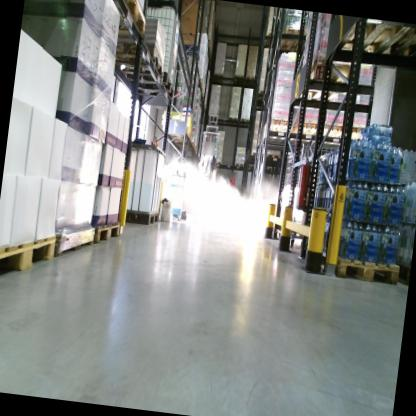pallet: (333, 18, 416, 68), (298, 247, 400, 287), (281, 54, 352, 110), (0, 226, 61, 289), (93, 0, 153, 37), (53, 218, 98, 264), (111, 41, 165, 79), (119, 67, 178, 99), (276, 24, 309, 55), (120, 205, 161, 229), (393, 24, 416, 63), (288, 122, 323, 146), (171, 39, 202, 62), (93, 222, 122, 246), (260, 26, 285, 48), (267, 116, 293, 134), (318, 128, 346, 141), (254, 89, 272, 107), (210, 71, 224, 85), (249, 149, 265, 161), (238, 116, 251, 128), (227, 114, 239, 126), (264, 150, 280, 159), (233, 74, 245, 85), (241, 74, 254, 84), (247, 163, 261, 171), (265, 164, 277, 172), (233, 161, 246, 168)
